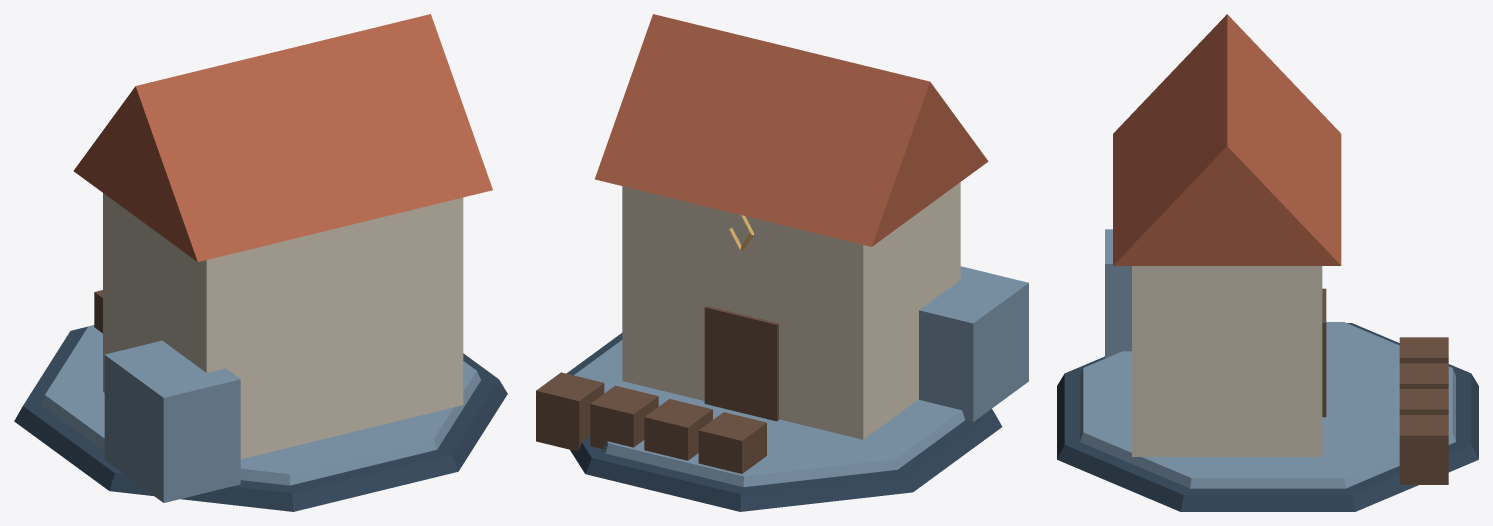
Rendered from Warehouse_3.fbx.
3 renders of one model, left to right at view 1: azimuth 30°, elevation 25°; view 2: azimuth 150°, elevation 25°; view 3: azimuth 270°, elevation 25°, orthographic. The views are drawn at different scales.
Parts seen in each view (by area): view 1: Warehouse_3; view 2: Warehouse_3; view 3: Warehouse_3.
Part boxes in pixels (x1,y1,x2,y2): Warehouse_3: (14, 14, 507, 511); Warehouse_3: (536, 14, 1028, 511); Warehouse_3: (1057, 14, 1478, 511).
Bounding box in the file's own units: 2.9 × 2.6 × 2.9.
